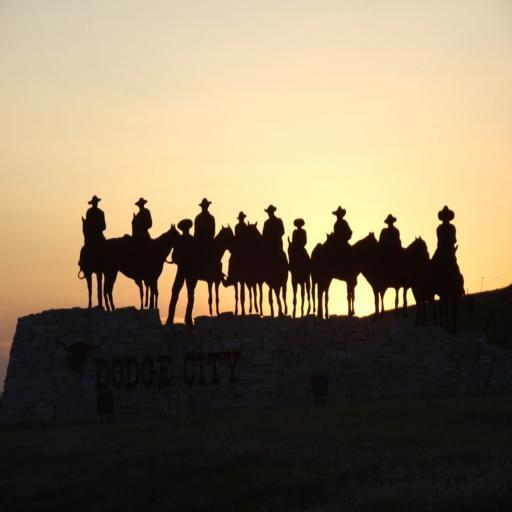horse: (74, 210, 464, 317)
